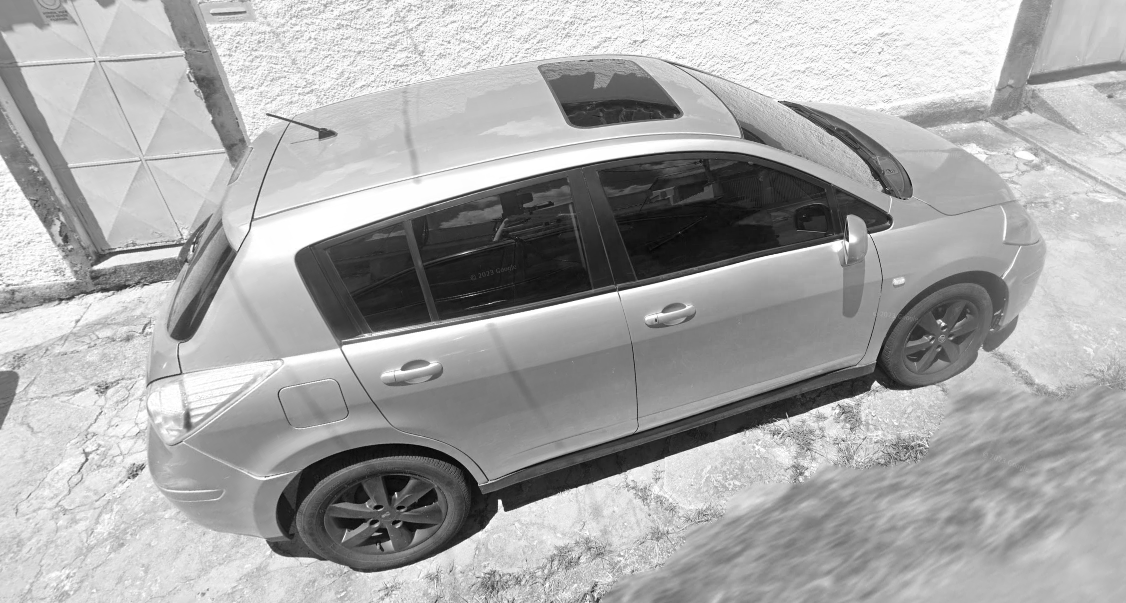car: (142, 57, 1049, 570)
